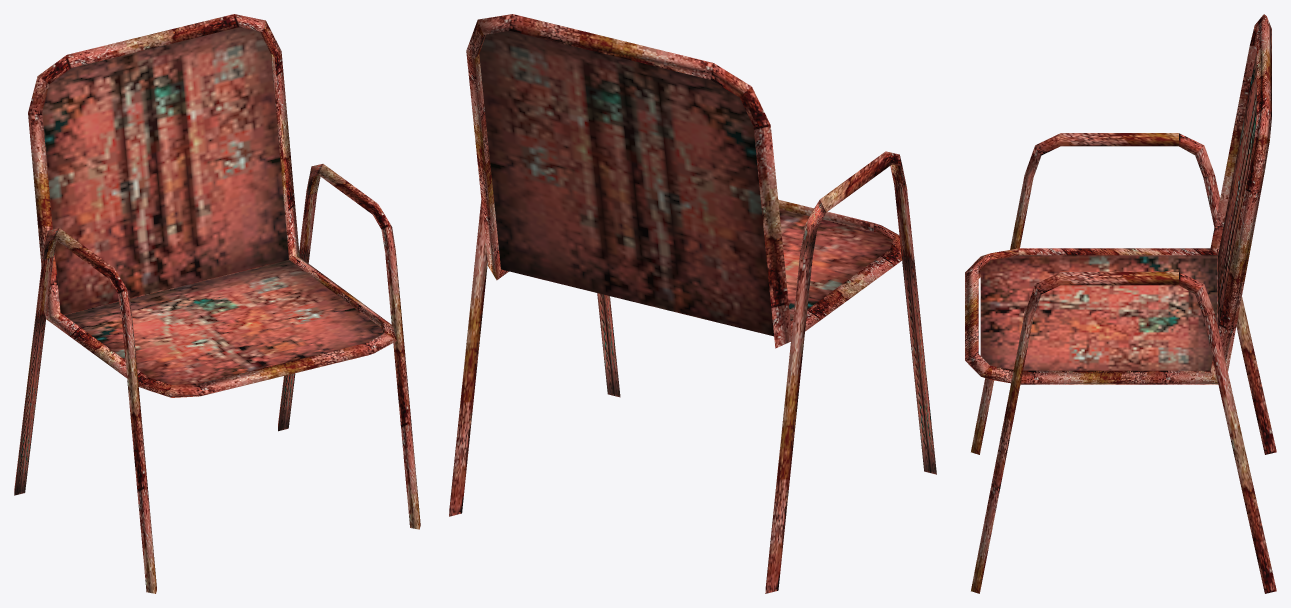
The model's file is patio_chair.fbx.
3 renders of one model, left to right at view 1: azimuth 30°, elevation 25°; view 2: azimuth 150°, elevation 25°; view 3: azimuth 270°, elevation 25°, orthographic. The views are drawn at different scales.
Parts seen in each view (by area): view 1: mesh_0; view 2: mesh_0; view 3: mesh_0.
Part boxes in pixels (x1,y1,x2,y2): mesh_0: (14, 14, 420, 593); mesh_0: (449, 14, 936, 593); mesh_0: (965, 14, 1276, 593).
Bounding box in the file's own units: 68.61 × 102 × 62.55.
1 material, 1 textured.
